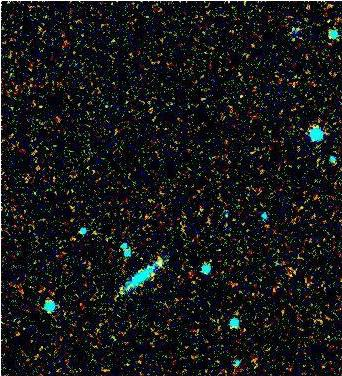star: (146, 245, 176, 275)
